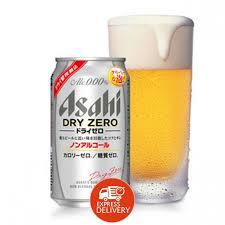beer: (50, 57, 132, 206)
